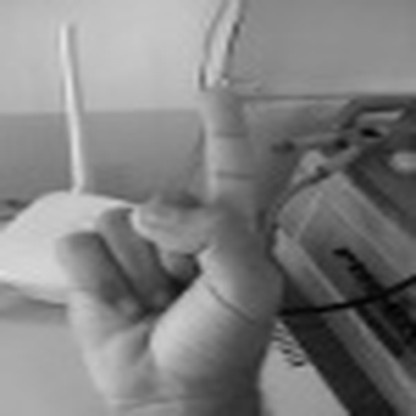d: (52, 87, 262, 414)
